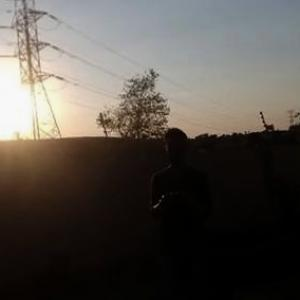follow: (146, 121, 218, 299)
